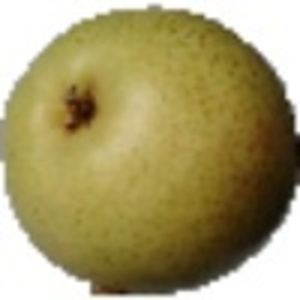pera: (1, 4, 300, 300)
